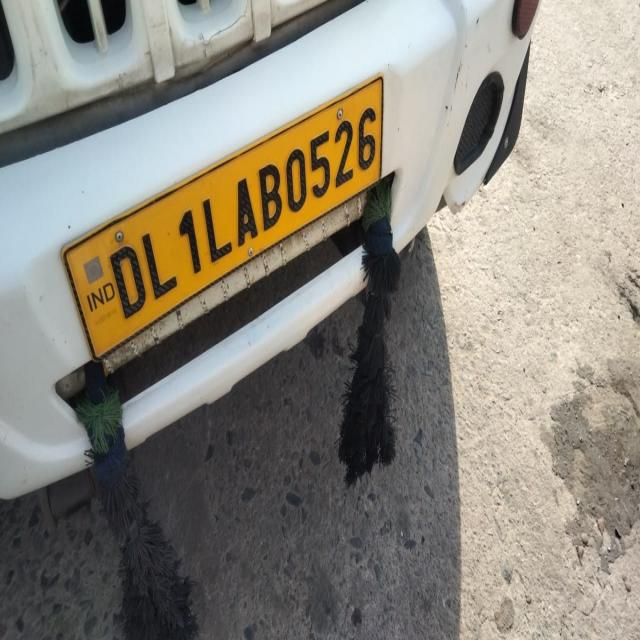License-plate: (82, 83, 381, 357)
